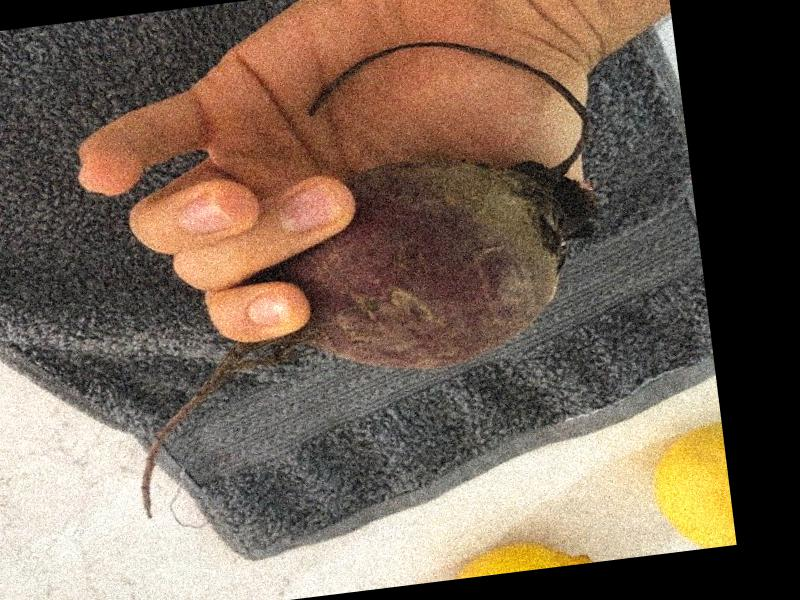Beet: (92, 23, 626, 518)
